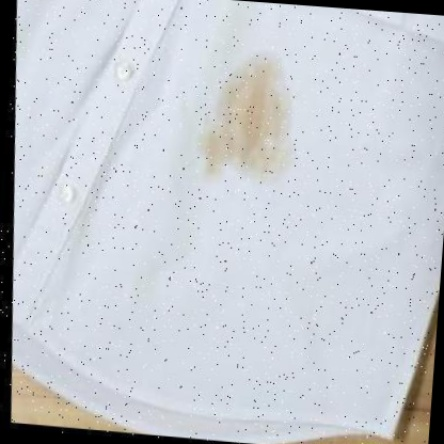coffee: (222, 66, 289, 170)
